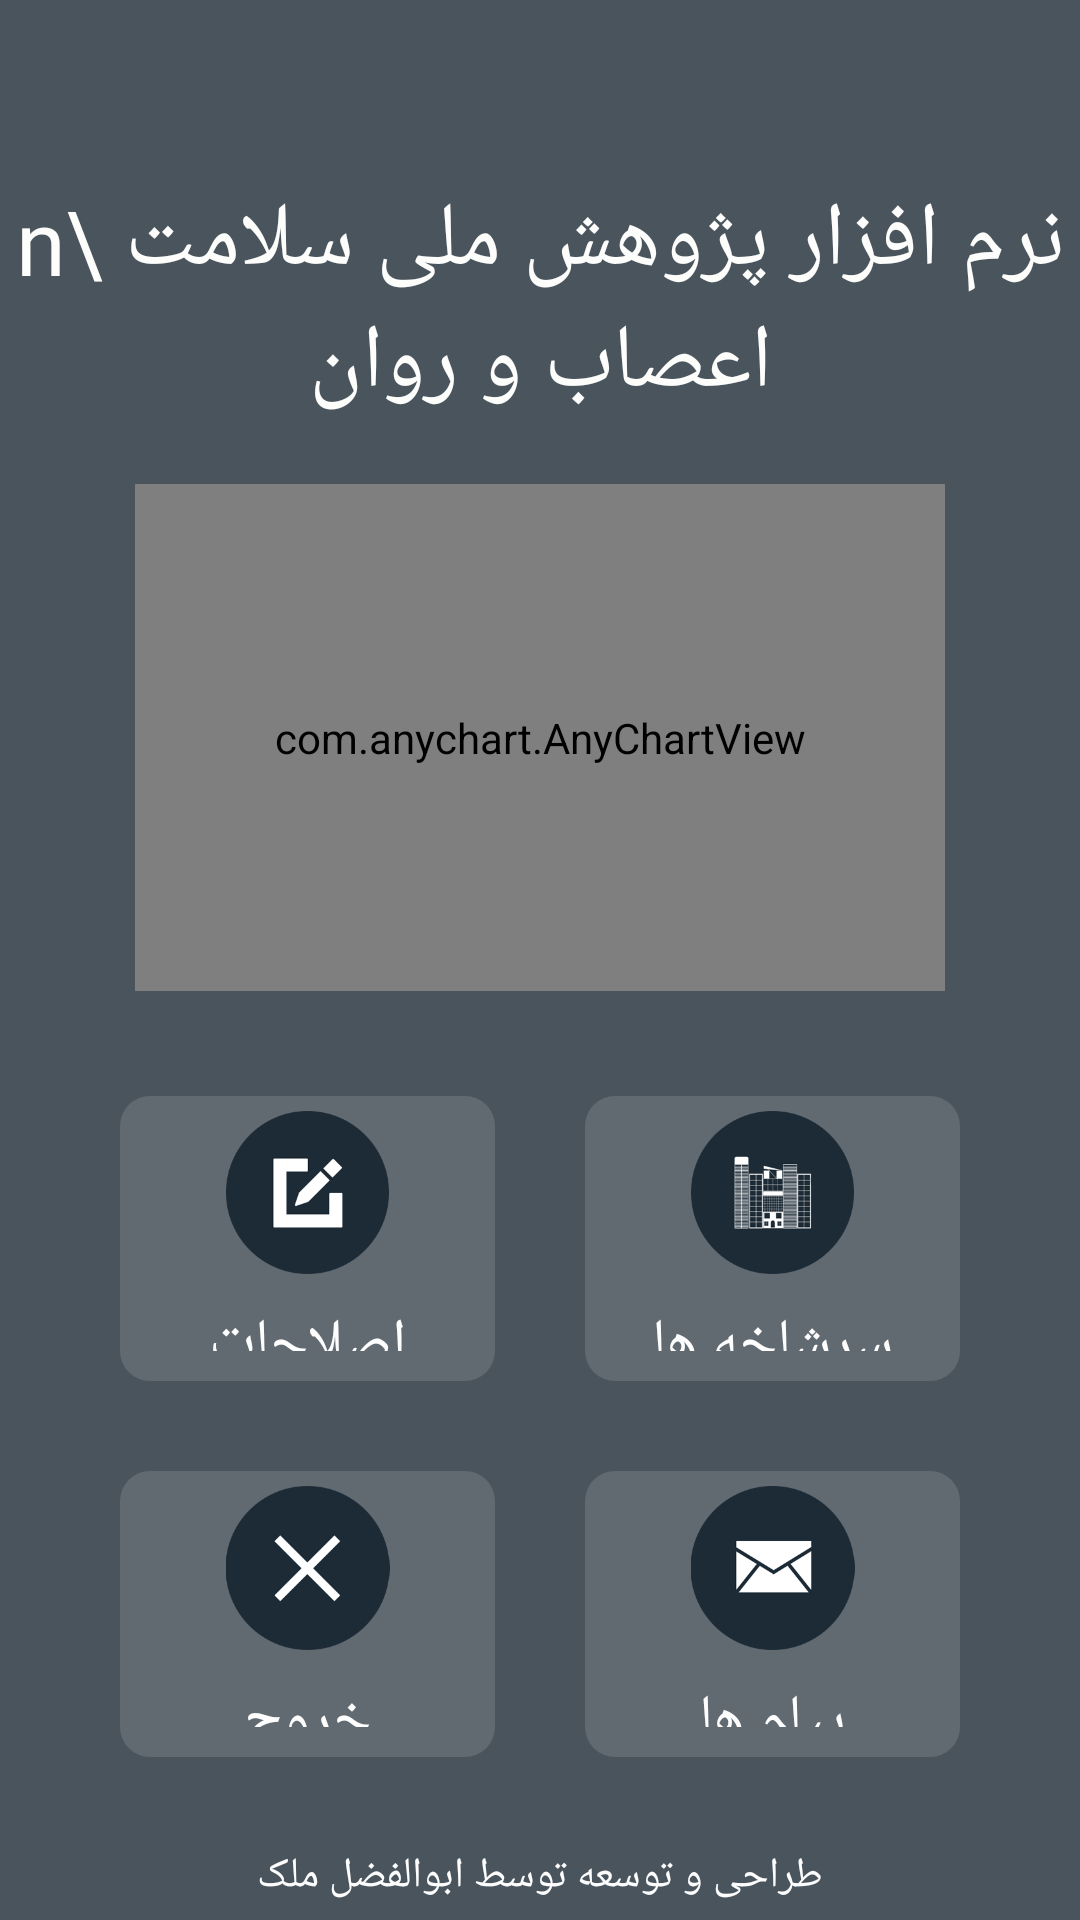

Where to tap for icons on this 1080×1920 app screen, as point (x, y):
close: point (308, 1568)
edit: point (307, 1192)
message: point (773, 1568)
